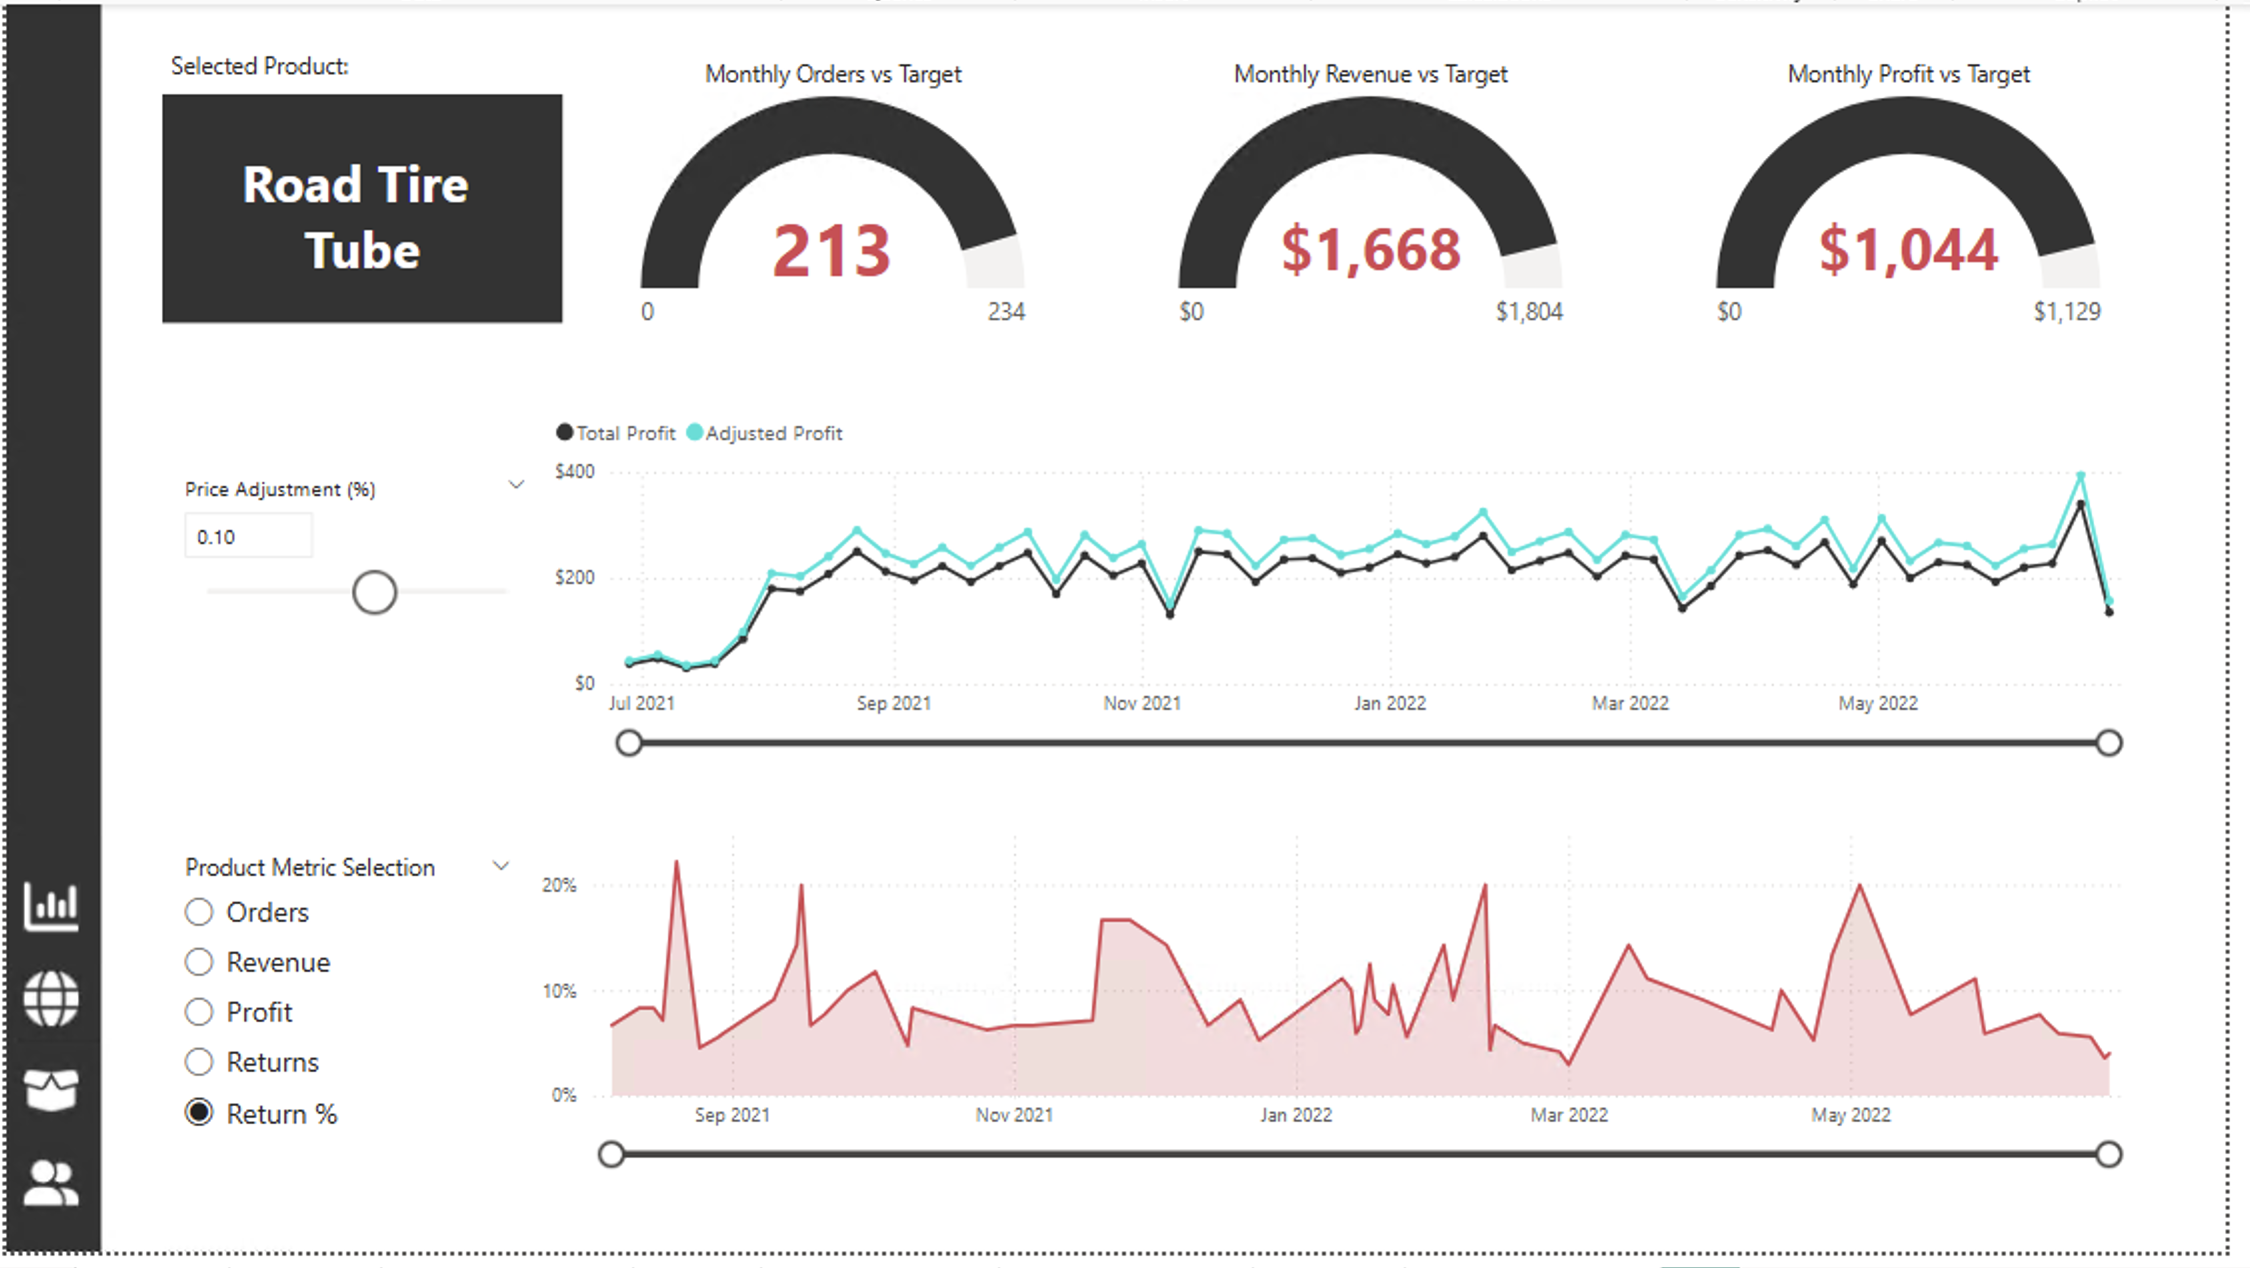

This screenshot's page, from the dashboard's own definition file:
{"tool":"powerbi","page":{"name":"Product Detail","canvas":[1280,720],"ordinal":2},"visuals":[{"type":"shape","box":[0,0,45,720],"z":0},{"type":"actionButton","box":[2.5,516.7,45.6,37.8],"z":0,"group":"g1"},{"type":"gauge","title":"Monthly Orders vs. Target","fields":{"Y":["Measure Table.Total Orders"],"MaxValue":["Measure Table.Order Target"]},"box":[383.7,41.5,236.9,203.7],"z":1000},{"type":"actionButton","box":[3.3,563.4,45.6,37.8],"z":1000,"group":"g1"},{"type":"gauge","title":"Monthly Revenue vs. Target","fields":{"Y":["Measure Table.Total Revenue"],"MaxValue":["Measure Table.Revenue Target"]},"box":[683.5,41.5,236.9,203.7],"z":2000},{"type":"actionButton","box":[3.3,611.1,45.6,37.8],"z":2000,"group":"g1"},{"type":"gauge","title":"Monthly Profit vs. Target","fields":{"Y":["Measure Table.Total Profit"],"MaxValue":["Measure Table.Profit Target"]},"box":[983.4,41.8,236.2,203.5],"z":3000},{"type":"actionButton","box":[3.3,657.8,45.6,37.8],"z":3000,"group":"g1"},{"type":"lineChart","title":"Profit Trending","fields":{"Category":["Calendar Lookup.Date Hierarchy.Year","Calendar Lookup.Date Hierarchy.Start of Month","Calendar Lookup.Date Hierarchy.Start of Week","Calendar Lookup.Date Hierarchy.Date"],"Y":["Measure Table.Total Profit","Measure Table.Adjusted Profit"]},"box":[290.5,237.4,952.8,221.5],"z":4000},{"type":"areaChart","title":"Return Trending","fields":{"Y":["Measure Table.Total Profit"],"Category":["Calendar Lookup.Date Hierarchy.Year","Calendar Lookup.Date Hierarchy.Start of Month","Calendar Lookup.Date Hierarchy.Start of Week","Calendar Lookup.Date Hierarchy.Date"]},"box":[290.5,471.3,708.7,221.5],"z":5000},{"type":"card","fields":{"Values":["Min(Product Lookup.ProductName)"]},"box":[83.6,61,235.1,134.5],"z":6000},{"type":"textbox","box":[83.6,32.8,136.8,36.2],"z":7000},{"type":"group","id":"g1","title":"Navigation Buttons","box":[2.5,516.7,46.4,178.9],"z":8000},{"type":"slicer","fields":{"Values":["Price Adjustment (%).Price Adjustment (%)"]},"box":[83.6,245.3,193.3,123.2],"z":9000},{"type":"slicer","fields":{"Values":["Product Metric Selection.Product Metric Selection"]},"box":[83.6,477,193.3,180.8],"z":10000},{"type":"textbox","title":"Report Summary","box":[999.2,478.1,253.2,208],"z":11000}]}

Visuals, with their boxes on the page's 1280x720 design canvas (x1, y1, x2, y2). These are canvas units, not pixel positions in the 2250x1268 screenshot, which may show the page scaled, cropped or inside an application window:
shape: rect(0, 0, 45, 720)
actionButton: rect(2, 517, 48, 554)
"Monthly Orders vs. Target" gauge: rect(384, 42, 621, 245)
actionButton: rect(3, 563, 49, 601)
"Monthly Revenue vs. Target" gauge: rect(684, 42, 920, 245)
actionButton: rect(3, 611, 49, 649)
"Monthly Profit vs. Target" gauge: rect(983, 42, 1220, 245)
actionButton: rect(3, 658, 49, 696)
"Profit Trending" lineChart: rect(290, 237, 1243, 459)
"Return Trending" areaChart: rect(290, 471, 999, 693)
card - Min(Product Lookup.ProductName): rect(84, 61, 319, 196)
textbox: rect(84, 33, 220, 69)
"Navigation Buttons" group: rect(2, 517, 49, 696)
slicer - Price Adjustment (%).Price Adjustment (%): rect(84, 245, 277, 368)
slicer - Product Metric Selection.Product Metric Selection: rect(84, 477, 277, 658)
"Report Summary" textbox: rect(999, 478, 1252, 686)
